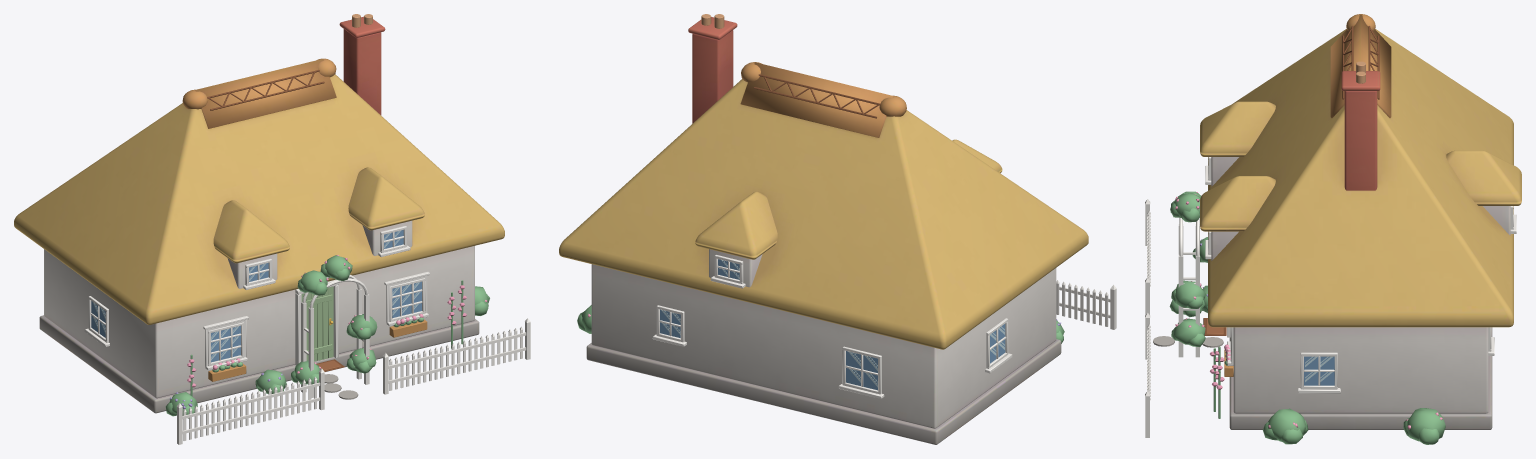
File: thatched-cottage.glb
The picture shows the model from 3 angles, left to right: view 1: azimuth 30°, elevation 25°; view 2: azimuth 150°, elevation 25°; view 3: azimuth 270°, elevation 25°; orthographic projection. The views are drawn at different scales.
Parts seen in each view (by area): view 1: thatched-cottage_body, thatched-cottage_details_flat, thatched-cottage_details, thatched-cottage_plants, thatched-cottage_door_l, thatched-cottage_frame, thatched-cottage_glints; view 2: thatched-cottage_body, thatched-cottage_details, thatched-cottage_details_flat, thatched-cottage_glints; view 3: thatched-cottage_body, thatched-cottage_plants, thatched-cottage_details_flat, thatched-cottage_details.
Part boxes in pixels (x1,y1,x2,y2): thatched-cottage_body: (14,16,504,413); thatched-cottage_details_flat: (177,70,530,444); thatched-cottage_details: (84,14,429,381); thatched-cottage_plants: (165,255,489,418); thatched-cottage_door_l: (301,286,333,361); thatched-cottage_frame: (295,279,338,365); thatched-cottage_glints: (92,230,420,360); thatched-cottage_body: (559,17,1088,444); thatched-cottage_details: (652,14,1012,398); thatched-cottage_details_flat: (754,74,1116,329); thatched-cottage_glints: (661,260,1004,387); thatched-cottage_body: (1200,14,1521,429); thatched-cottage_plants: (1169,191,1445,444); thatched-cottage_details_flat: (1145,26,1379,437); thatched-cottage_details: (1203,61,1516,393).
Size of the model in its own units: 10.62 by 7.88 by 8.13.
16 materials, 1 textured.
